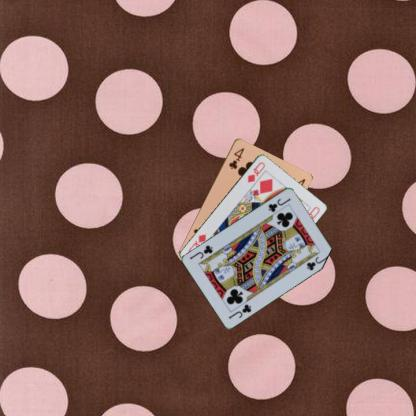4c: (226, 145, 245, 170)
Jc: (226, 301, 252, 320), (266, 195, 292, 213)
Qd: (245, 159, 266, 184)
